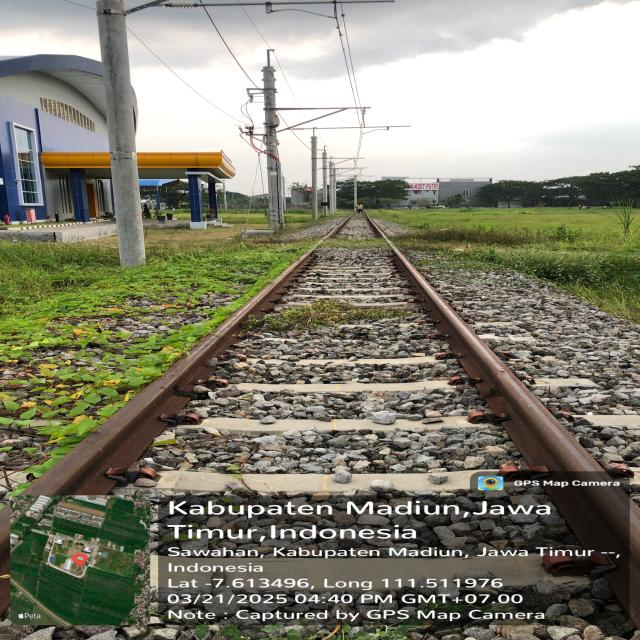rail-detection: (393, 248, 640, 621), (21, 251, 313, 495)
